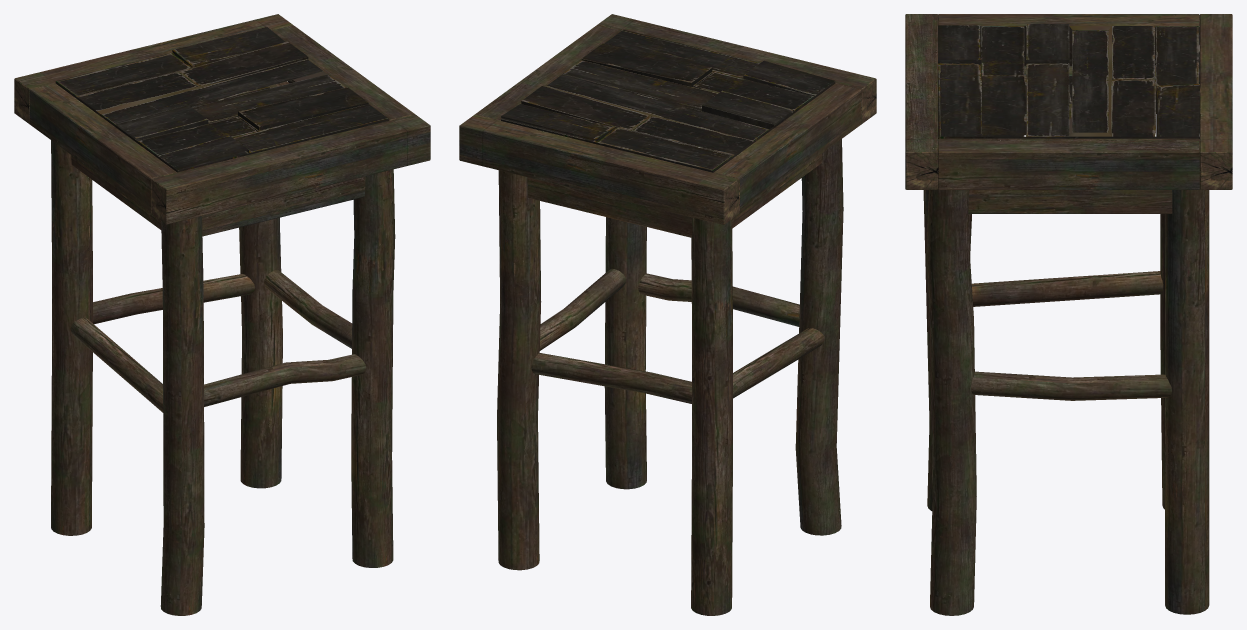
3 views of the same model, side by side, from view 1: azimuth 30°, elevation 25°; view 2: azimuth 150°, elevation 25°; view 3: azimuth 270°, elevation 25° (orthographic). The views are drawn at different scales.
Visible parts, largest first — view 1: SM_BB_T1_Foundation_Med_LOD0; view 2: SM_BB_T1_Foundation_Med_LOD0; view 3: SM_BB_T1_Foundation_Med_LOD0.
Boxes of the visible parts, left/top/right/bottom form: SM_BB_T1_Foundation_Med_LOD0: left=14, top=14, right=430, bottom=615; SM_BB_T1_Foundation_Med_LOD0: left=459, top=14, right=876, bottom=615; SM_BB_T1_Foundation_Med_LOD0: left=905, top=14, right=1232, bottom=615.
Size of the model in its own units: 1.88 by 3.03 by 1.87.
Materials: 2 (2 with a texture image).
